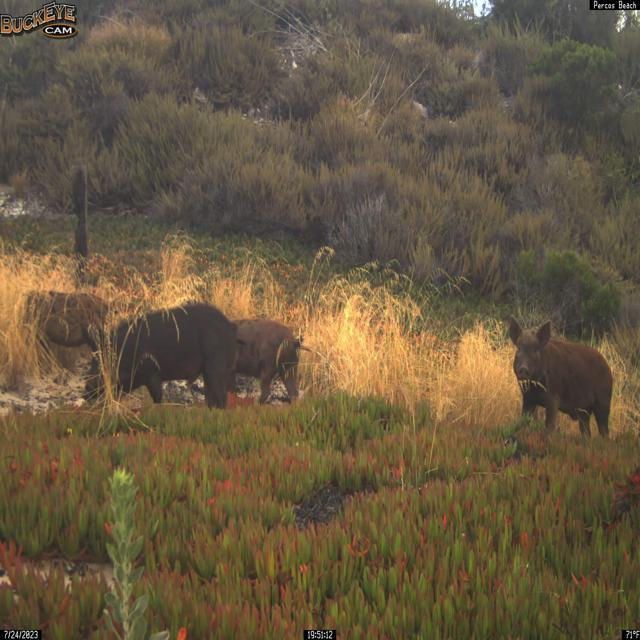pig: (508, 314, 614, 443)
